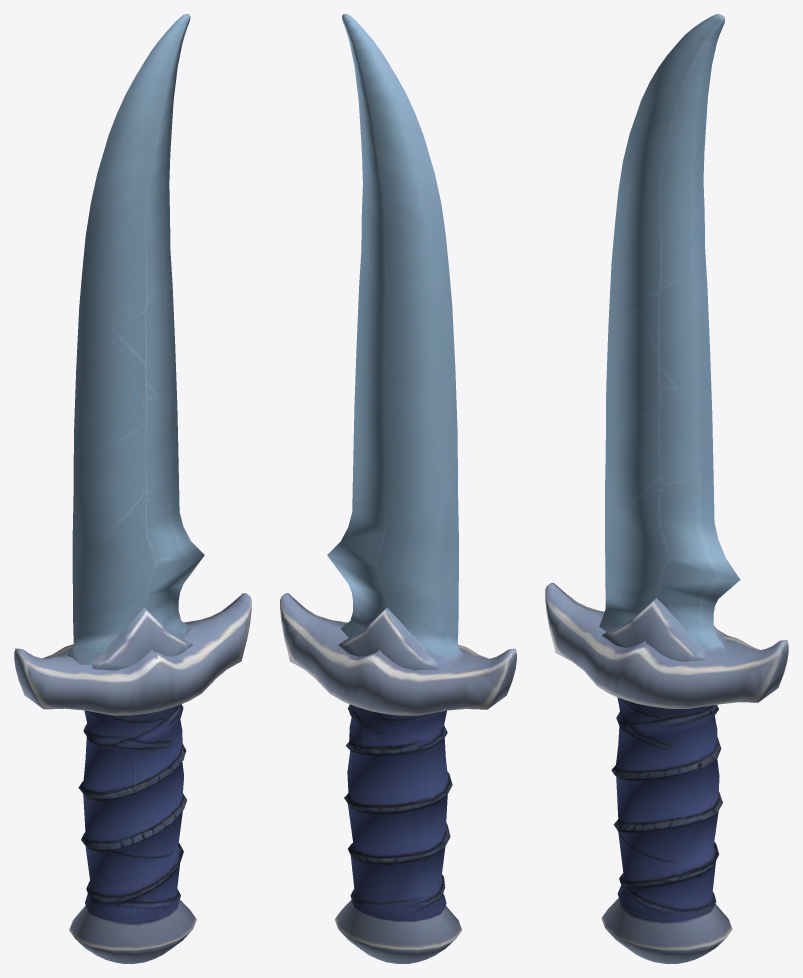
Rendered from ice_fang.glb.
3 renders of one model, left to right at view 1: azimuth 30°, elevation 25°; view 2: azimuth 150°, elevation 25°; view 3: azimuth 330°, elevation 25°, orthographic. The views are drawn at different scales.
Parts seen in each view (by area): view 1: tripo_node_01238683-5ee5-4601-b82f-70e868a0a370; view 2: tripo_node_01238683-5ee5-4601-b82f-70e868a0a370; view 3: tripo_node_01238683-5ee5-4601-b82f-70e868a0a370.
Boxes of the visible parts, x1,y1,x2,y2 form: tripo_node_01238683-5ee5-4601-b82f-70e868a0a370: (14, 14, 251, 963); tripo_node_01238683-5ee5-4601-b82f-70e868a0a370: (280, 14, 516, 963); tripo_node_01238683-5ee5-4601-b82f-70e868a0a370: (545, 14, 788, 963).
Bounding box in the file's own units: 0.3333 × 1.28 × 0.1382.
Materials: 1 (1 with a texture image).
